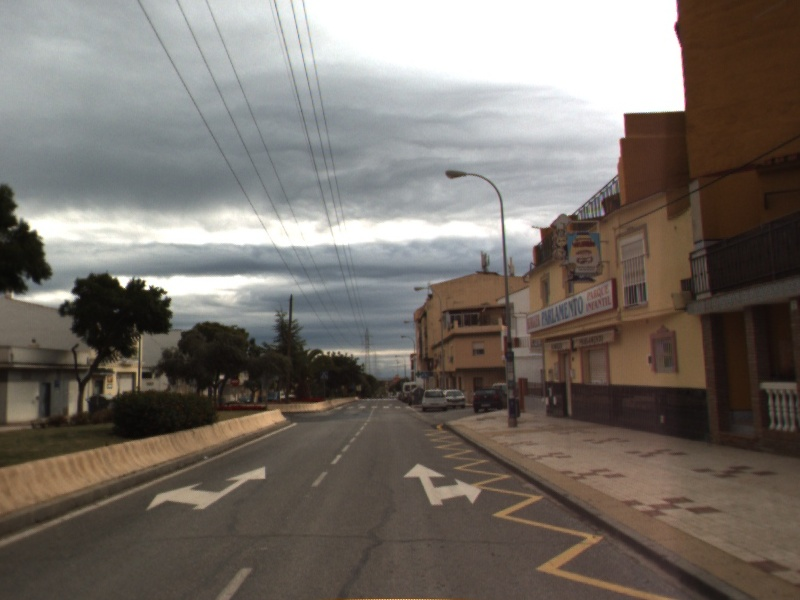STRAIGHT_LEFT: (144, 464, 268, 512)
STRAIGHT_RIGHT: (402, 461, 483, 507)
